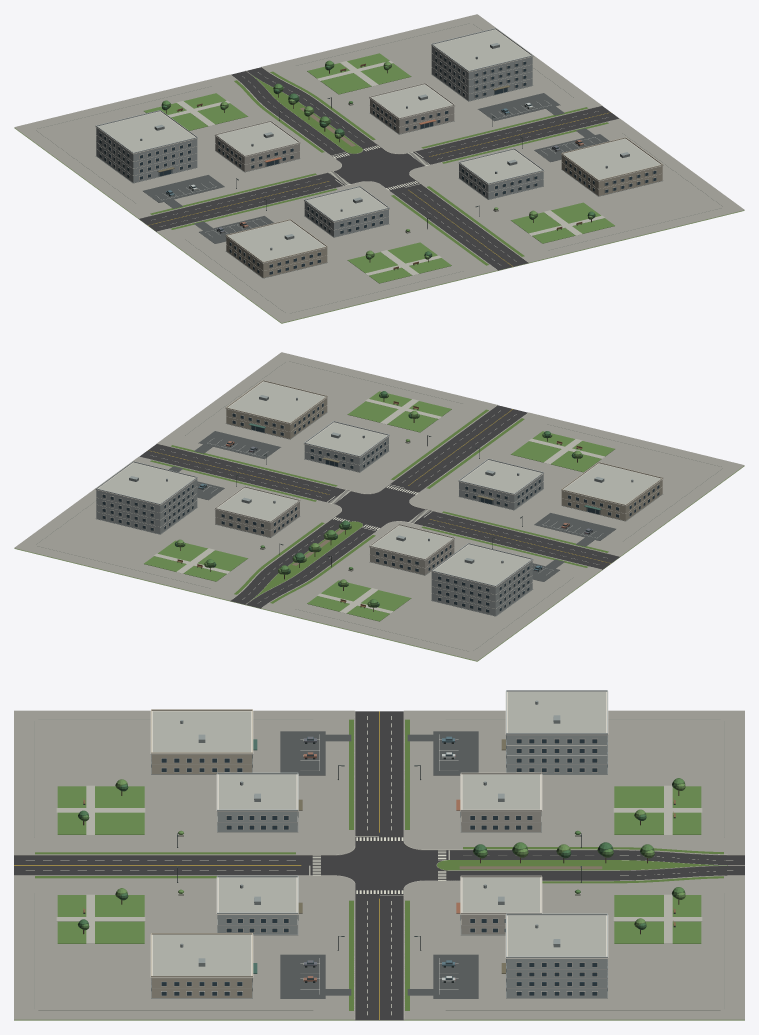
Rendered from barrio.obj.
3 renders of one model, top to bottom at view 1: azimuth 30°, elevation 25°; view 2: azimuth 150°, elevation 25°; view 3: azimuth 270°, elevation 25°, orthographic. The views are drawn at different scales.
Visible parts, largest first — view 1: Barrio_I5; view 2: Barrio_I5; view 3: Barrio_I5.
Boxes of the visible parts, x1,y1,x2,y2 form: Barrio_I5: (14,14,744,323); Barrio_I5: (14,352,744,661); Barrio_I5: (14,690,744,1020).
Size of the model in its own units: 210 by 14.34 by 210.
